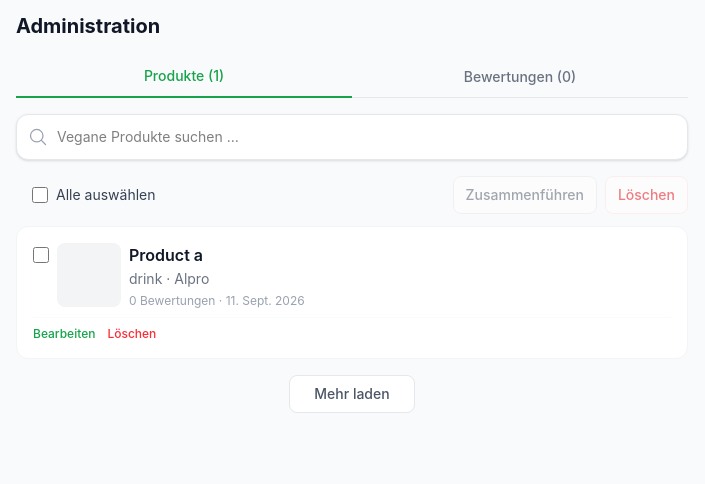
Test: AdminView › given loading more products fails › shows the error on the page
Expected: the checkbox labelled "Alle auswählen" is shown, [32,187,48,203]
Click the button with aria-label "Mehr Produkte laden". click: (352, 394)
box: [289,375,415,413]
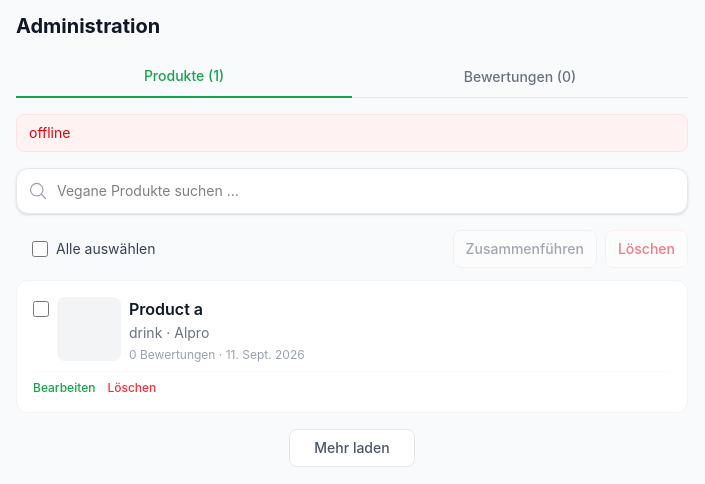
Expected: the message "offline" is shown, [16,114,688,152]
